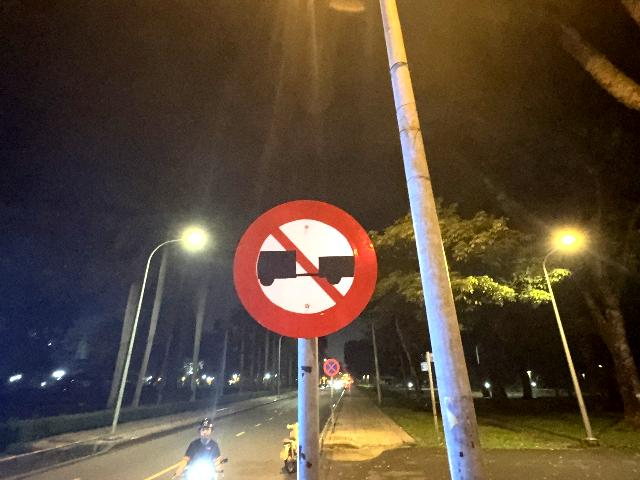cam-xe-somi-romooc: (233, 198, 378, 340)
